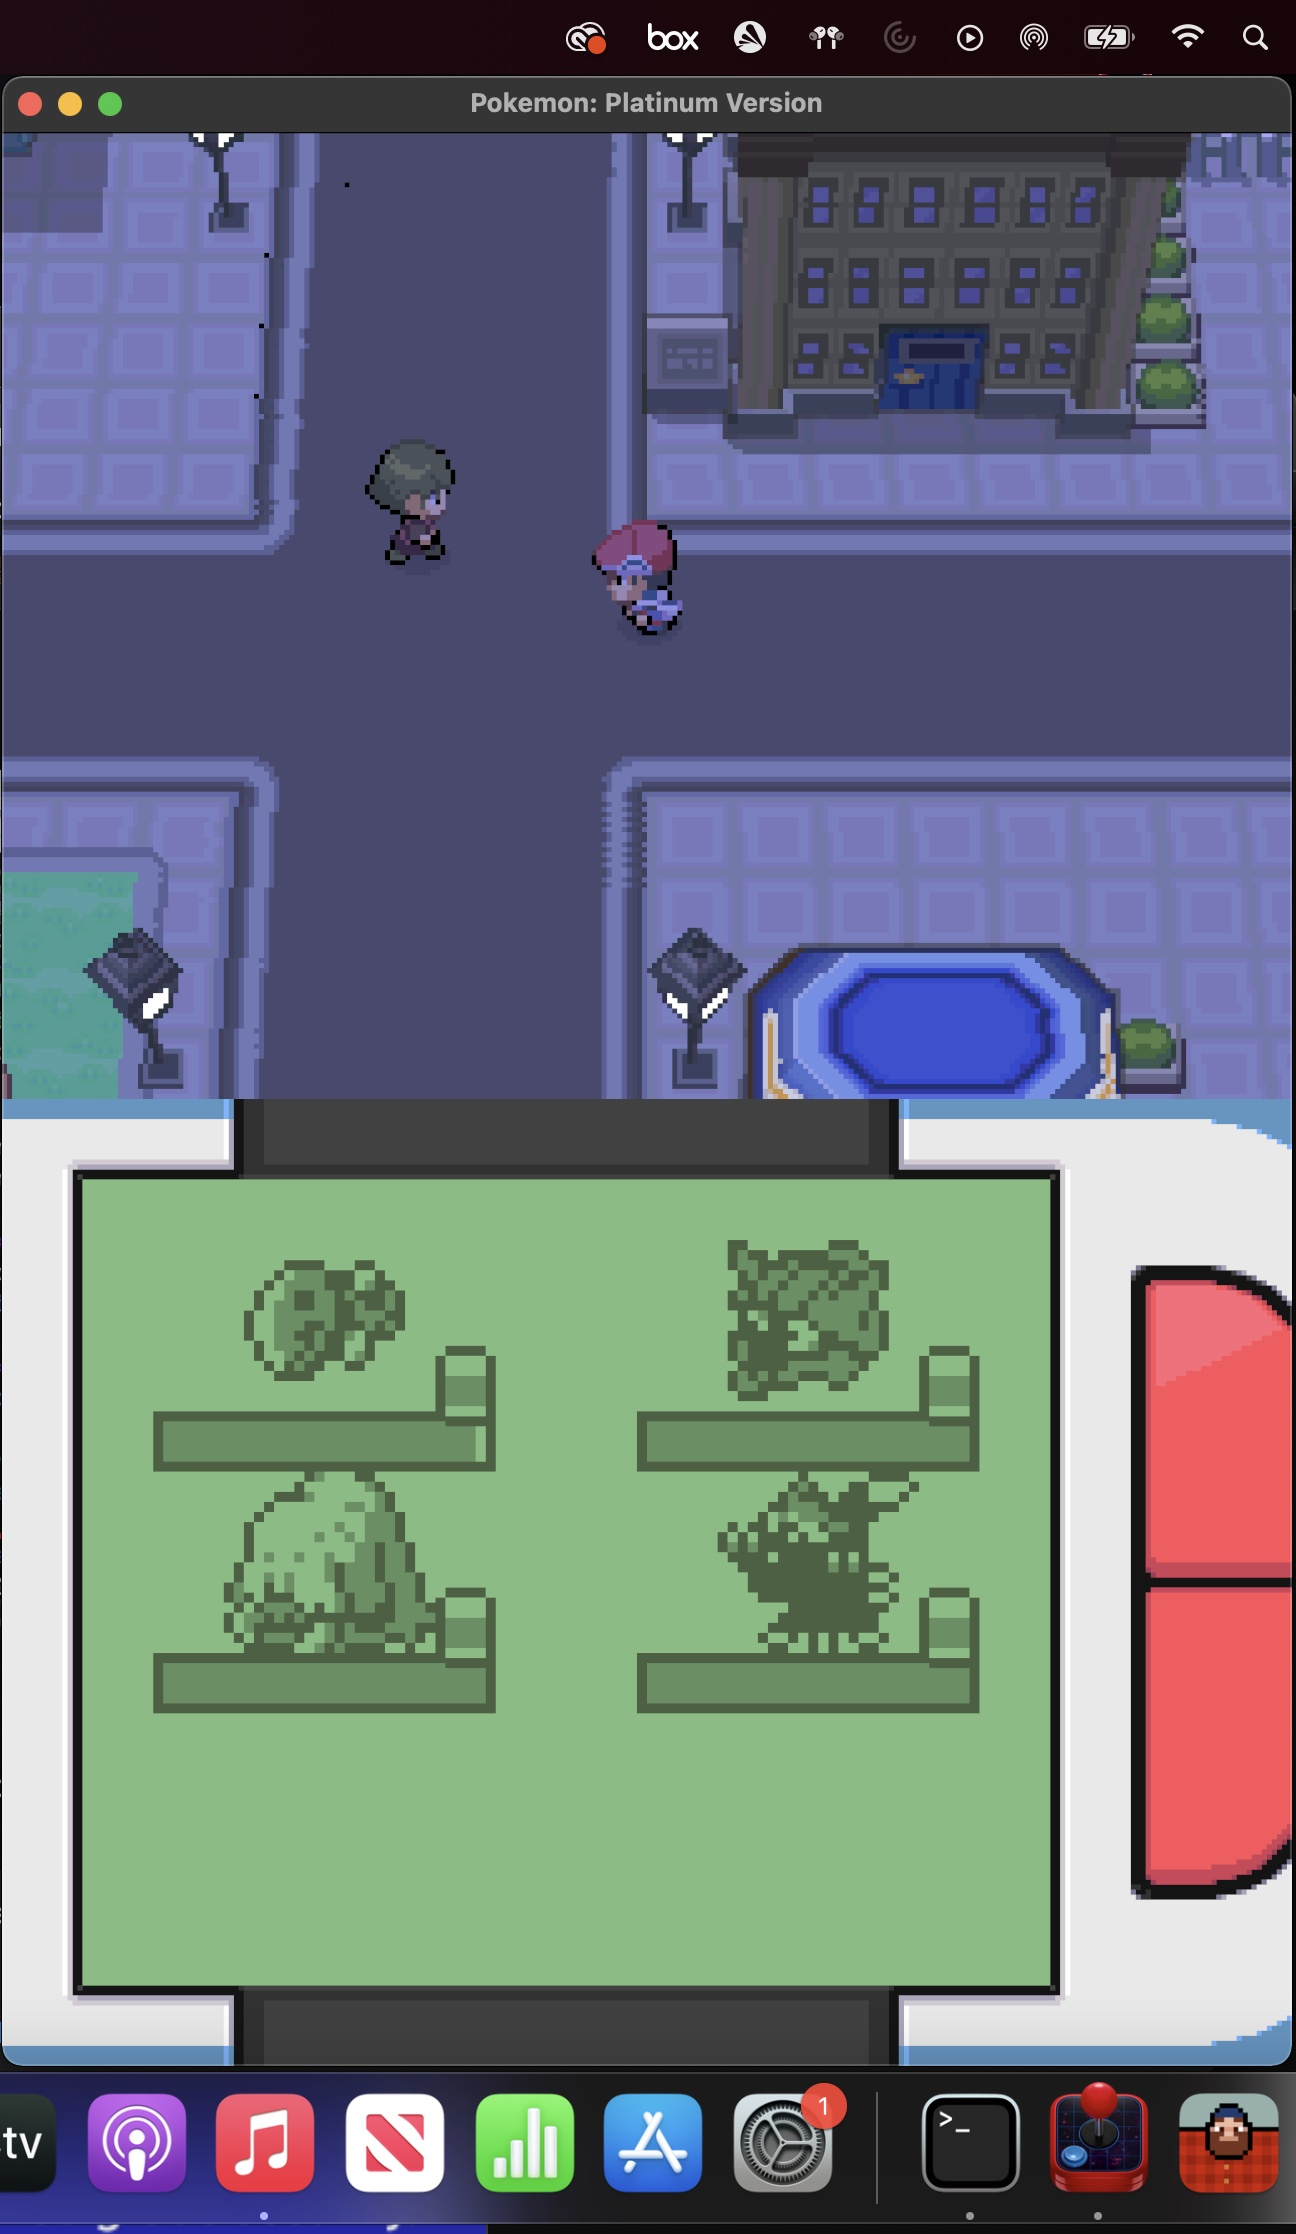player: (580, 509, 693, 639)
